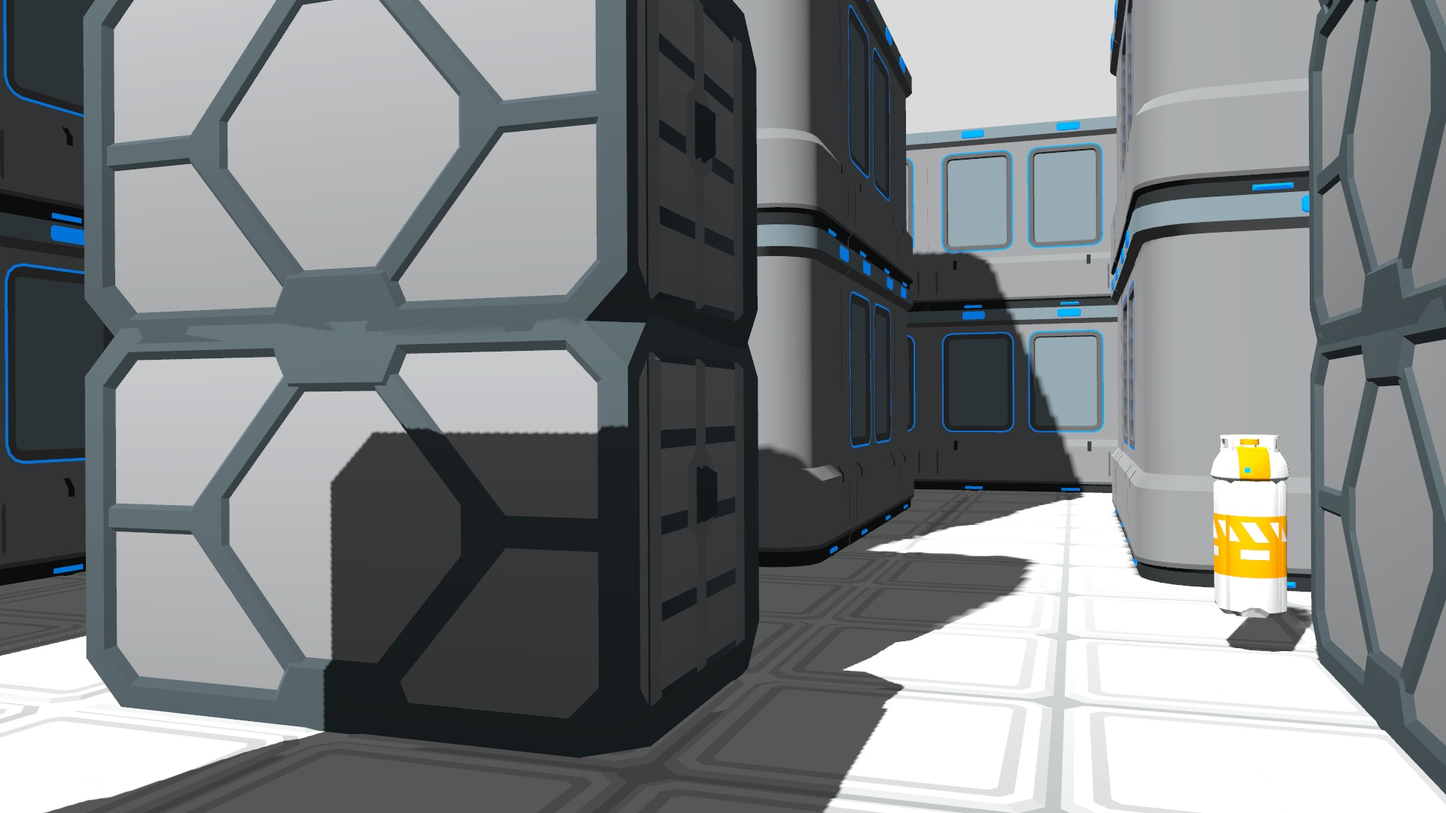yellow_barrel: (1206, 429, 1291, 620)
